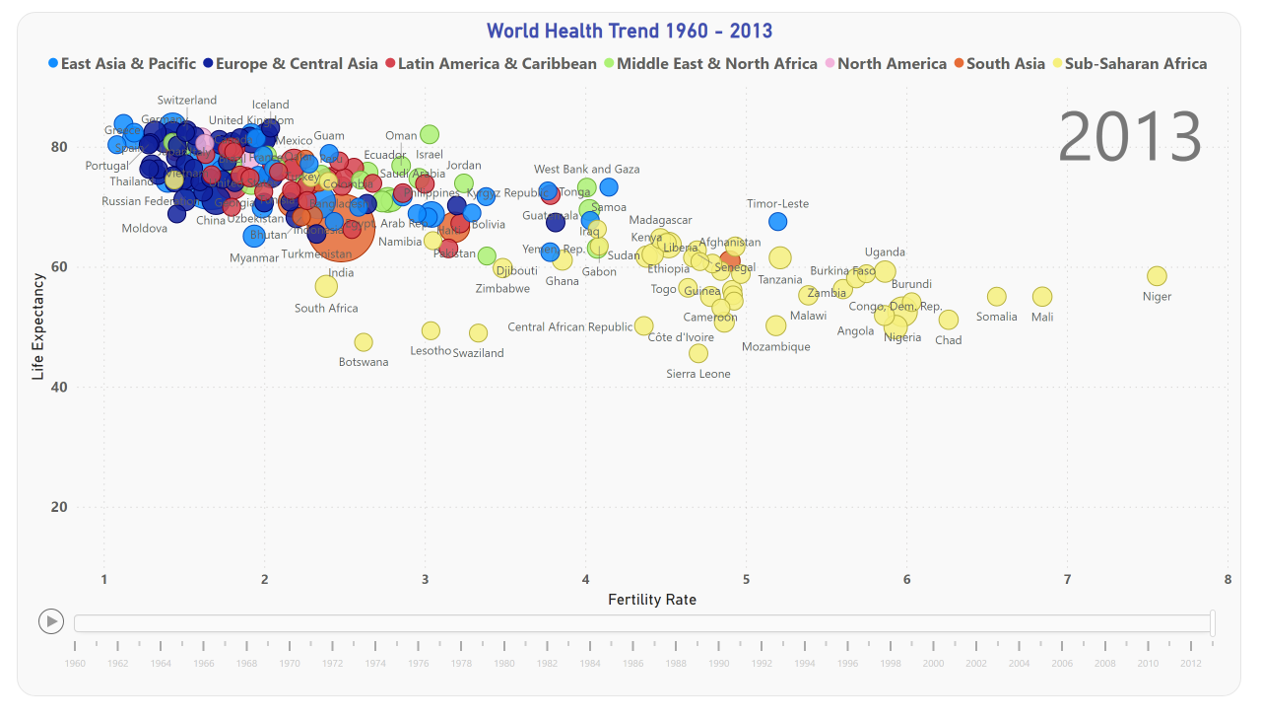

The page's visual inventory and layout, read from the dashboard file:
{"tool":"powerbi","page":{"name":"Page 1","canvas":[1280,720],"ordinal":0},"visuals":[{"type":"scatterChart","title":"World Health Trend 1960 - 2013","fields":{"Size":["Sum(Combined Data.Population)"],"X":["Sum(Combined Data.Fertility Rate)"],"Y":["Sum(Combined Data.Life Expectancy)"],"Play":["Combined Data.Year"],"Series":["Country.Region"],"Category":["Country.Country Name"]},"box":[16.9,11.9,1242.8,694.2],"z":0}]}

Visuals, with their boxes in screenshot pixels (x1, y1, x2, y2), scaled from the page's 1280x720 canvas onto the 1261x720 screenshot:
"World Health Trend 1960 - 2013" scatterChart: bbox=[17, 12, 1241, 706]
